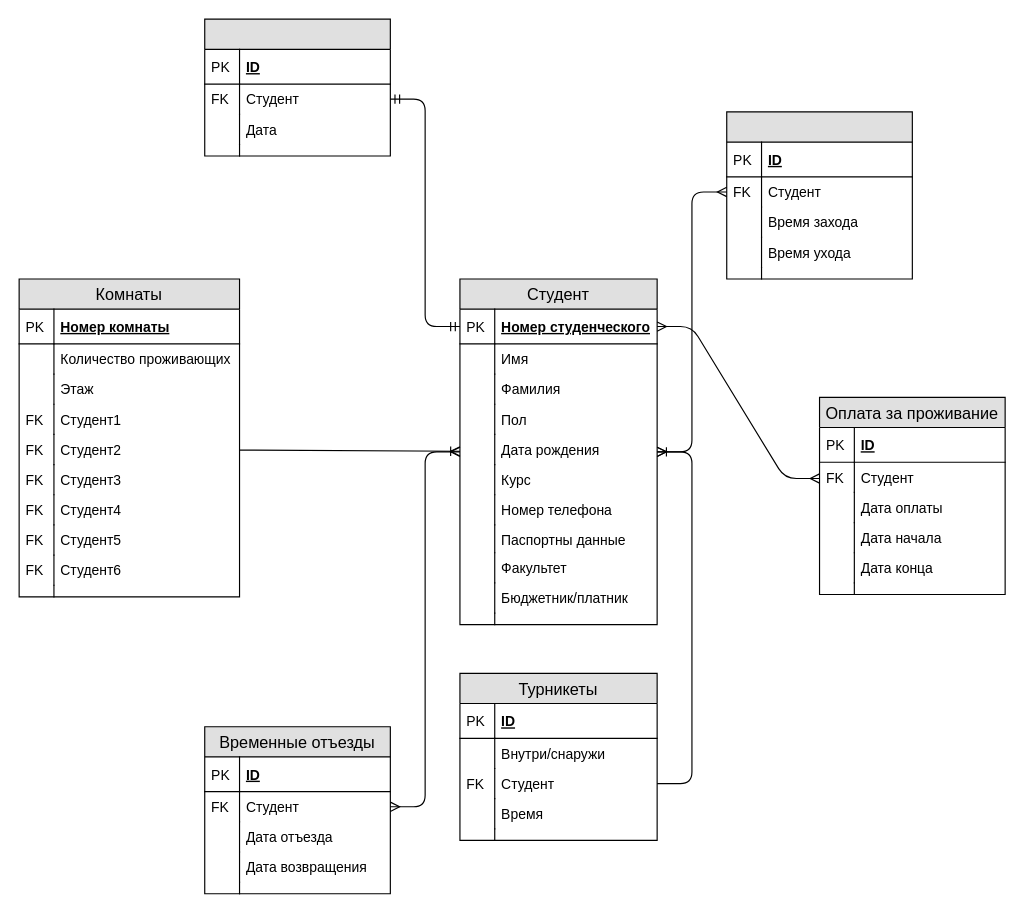
Some shapes in this 1024 by 913 pixel diagram are drawn without their labels. The box of each missing label's shape, as (x1, y1, x2, y2) in pixels:
Регистрация выговоров: (204, 18, 390, 156)
Тренажерный зал: (726, 111, 912, 279)
